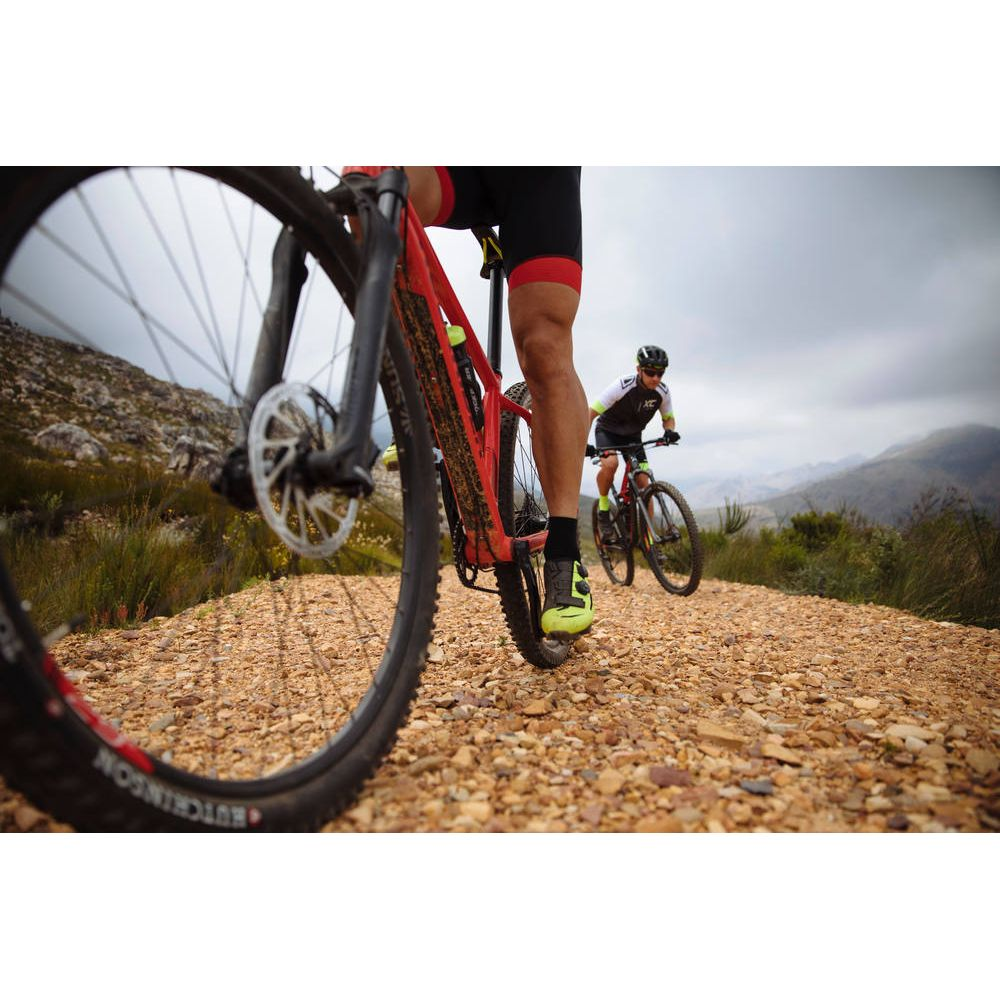MountainBike: (3, 152, 605, 820), (584, 428, 717, 597)
